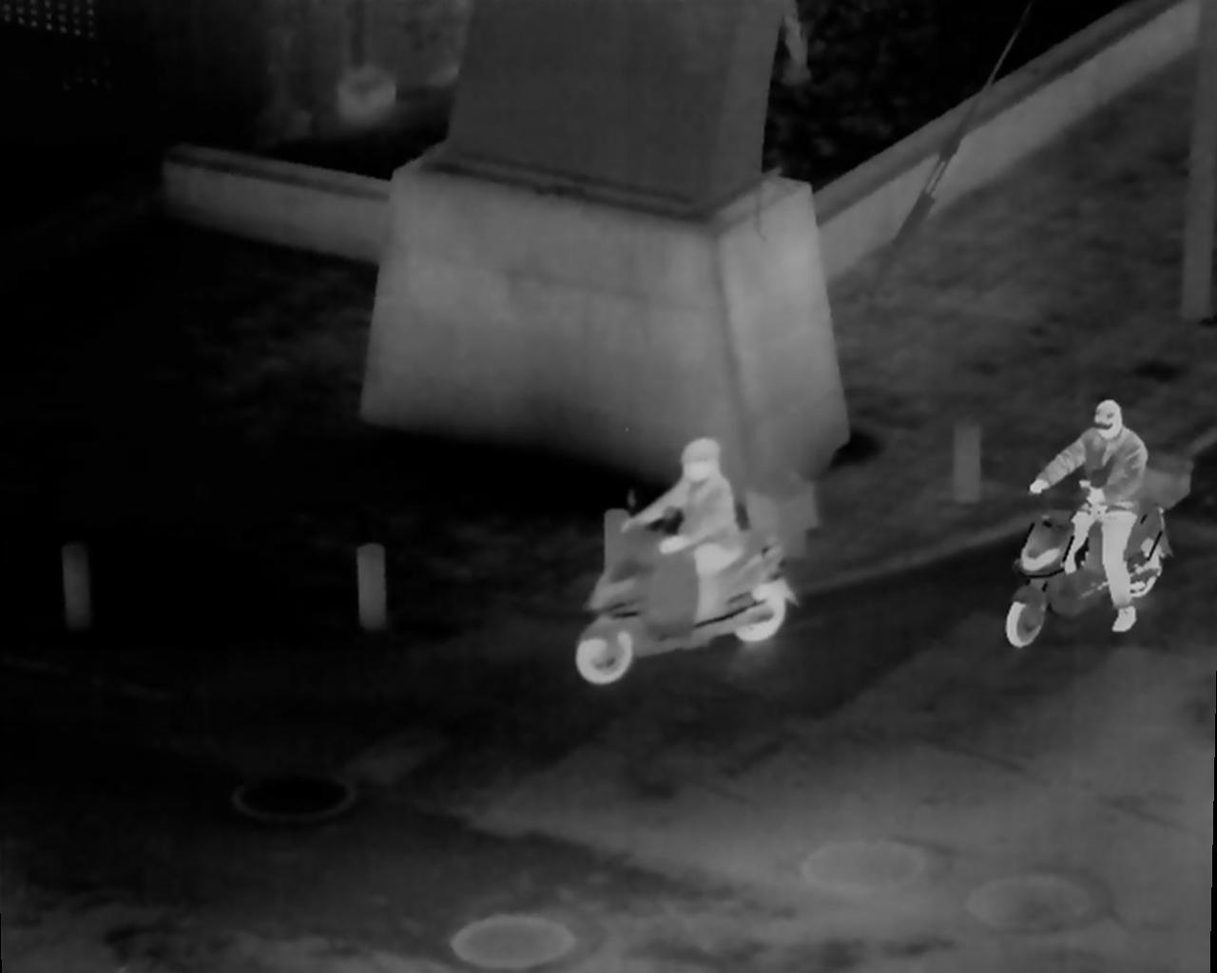person: (1054, 389, 1159, 628), (638, 427, 752, 633)
